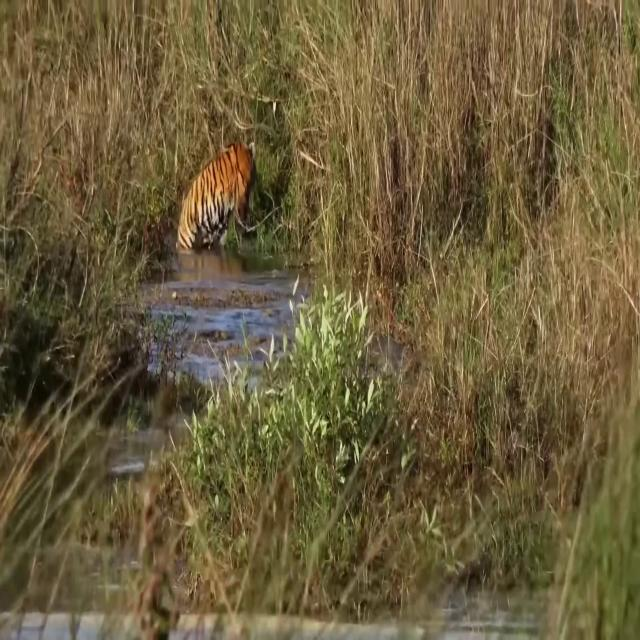tiger: (175, 143, 254, 248)
